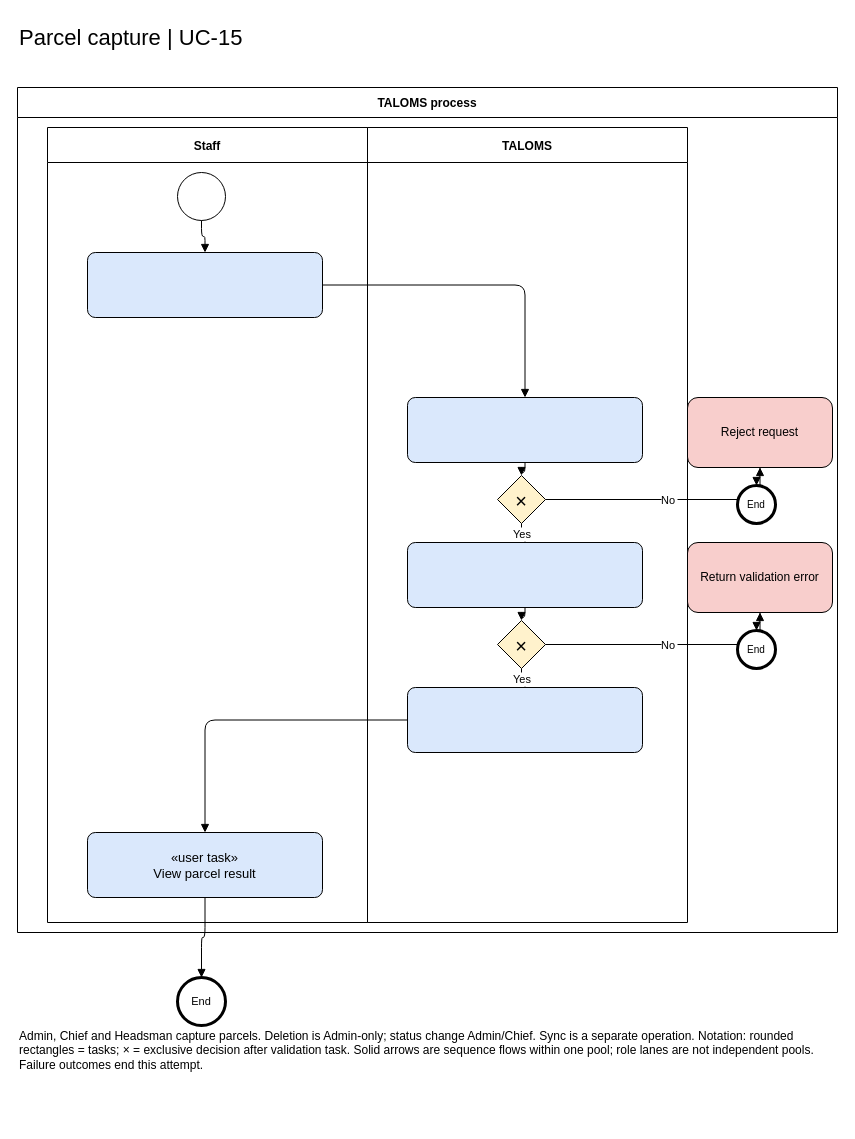
This 855x1139 diagram has some shape labels left out. Here are the shapes that lost their labels. From the top down, the centre of each, then its label:
(201,196): Start
(204,285): «user task» Submit village, stand and boundary
(524,429): «service task» Check route scope, village and parcel data; valid?
(524,575): «service task» Check geometry and applicable overlap rules; valid?
(524,719): «service task» Generate parcel number; save parcel/boundary
